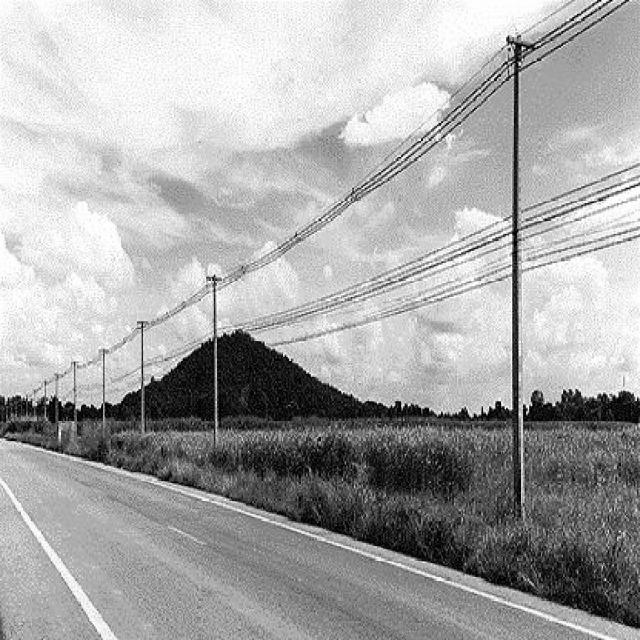Pole: (506, 35, 535, 518), (206, 274, 222, 447), (138, 320, 148, 432)
